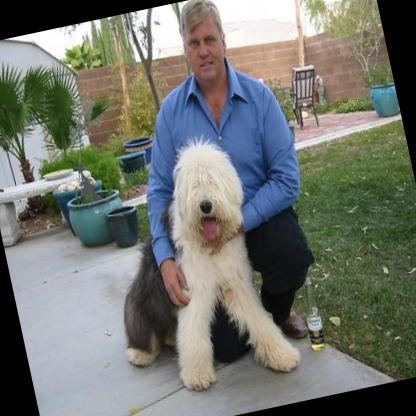Old_English_sheepdog: (84, 127, 304, 406)
